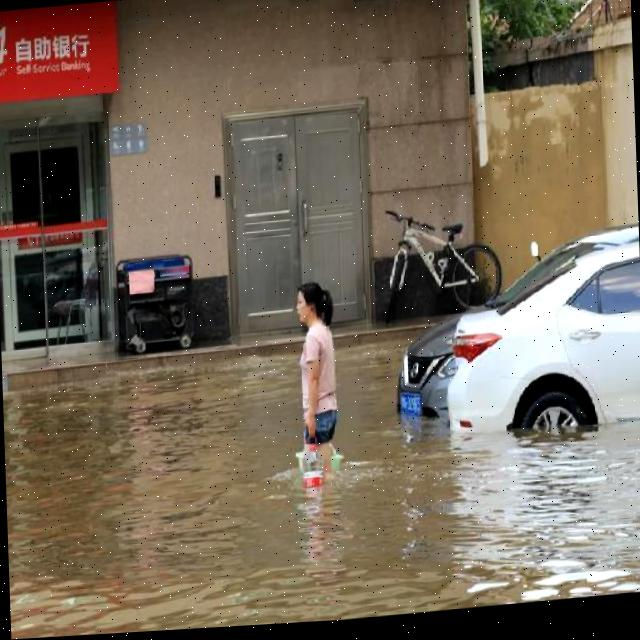civilian: (228, 264, 382, 524)
